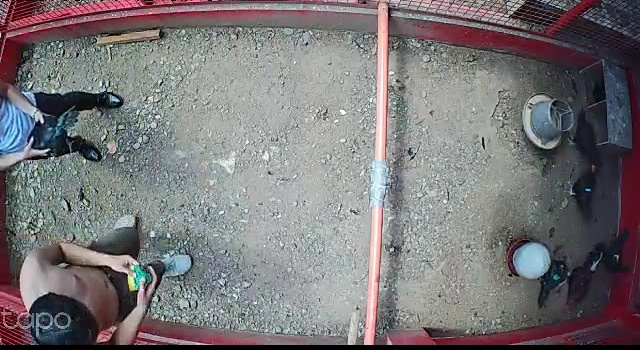Chicken: (562, 164, 602, 227), (568, 105, 604, 166), (535, 256, 572, 313), (602, 229, 634, 278)
Drinker: (506, 237, 552, 281)
Feeder: (522, 93, 576, 151)
Rooster: (562, 243, 606, 312)
